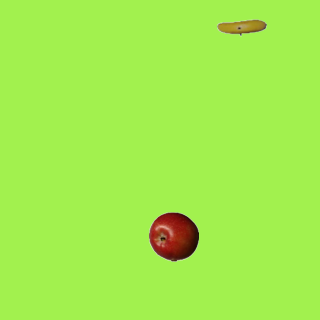Apple Braeburn: (148, 211, 198, 261)
Banana: (216, 2, 266, 52)
